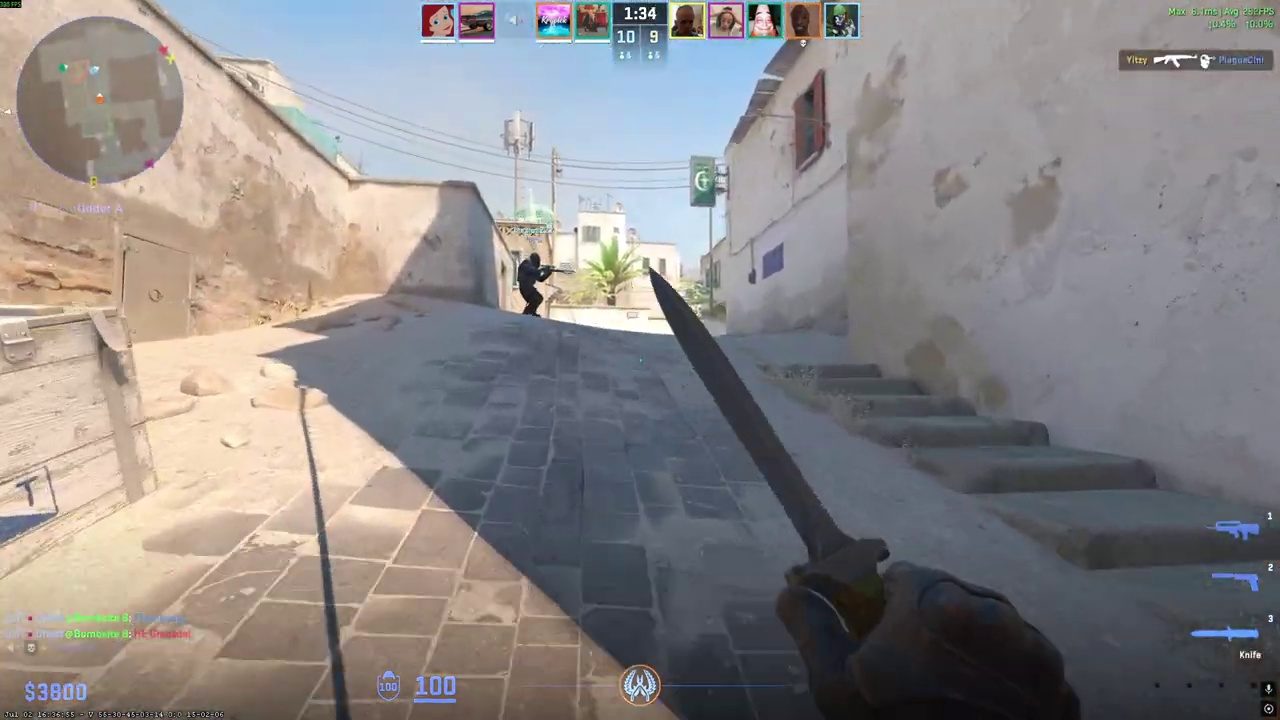CT: (517, 252, 549, 317)
